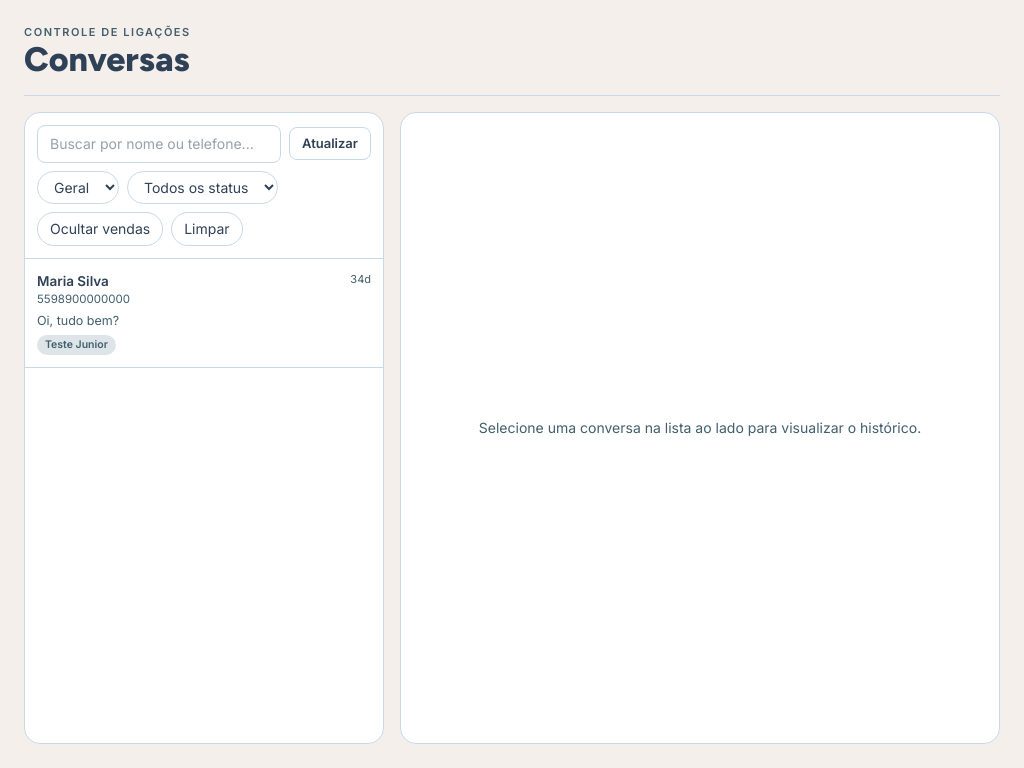
it: ConversasPage — painel de chat › envio de mensagem com sucesso aparece no chat e limpa o campo
Click the text "Maria Silva".
click(73, 280)  # box top-left (37, 272), bottom-right (109, 288)
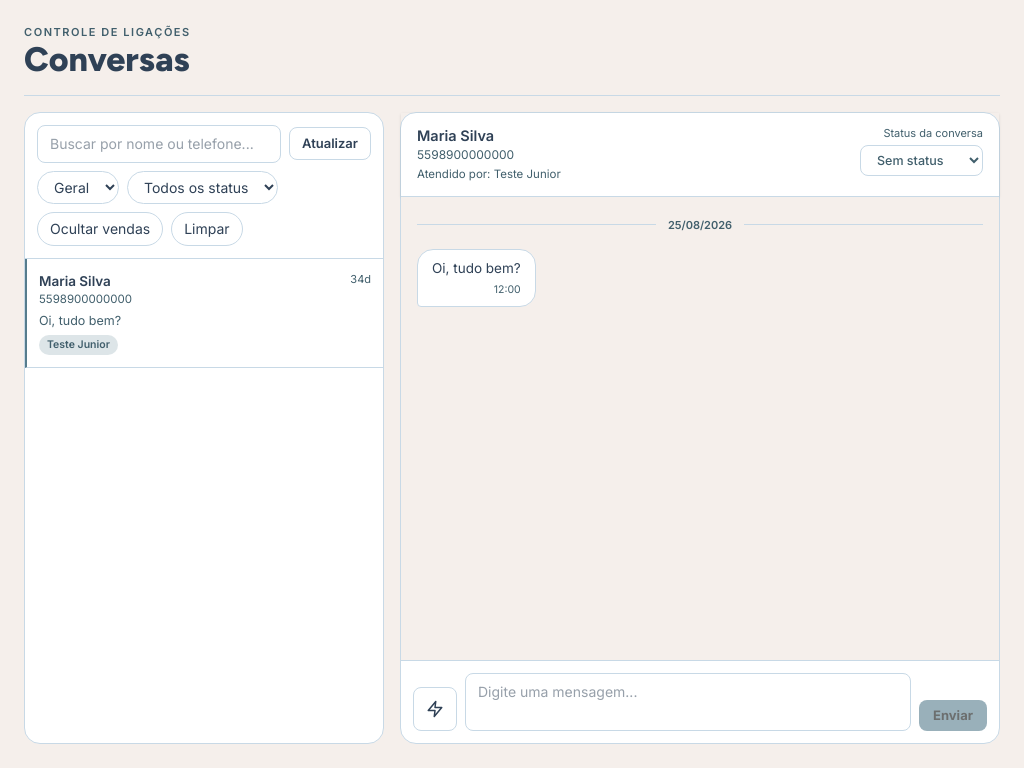
Expected: the 2nd text "Oi, tudo bem?" is shown, top-left (39, 313), bottom-right (121, 328)
Type "Oi Maria, tudo ótimo!" into the text box named "Mensagem para o contato".
click(688, 702); type("Oi Maria, tudo ótimo!")  # box top-left (465, 673), bottom-right (911, 731)
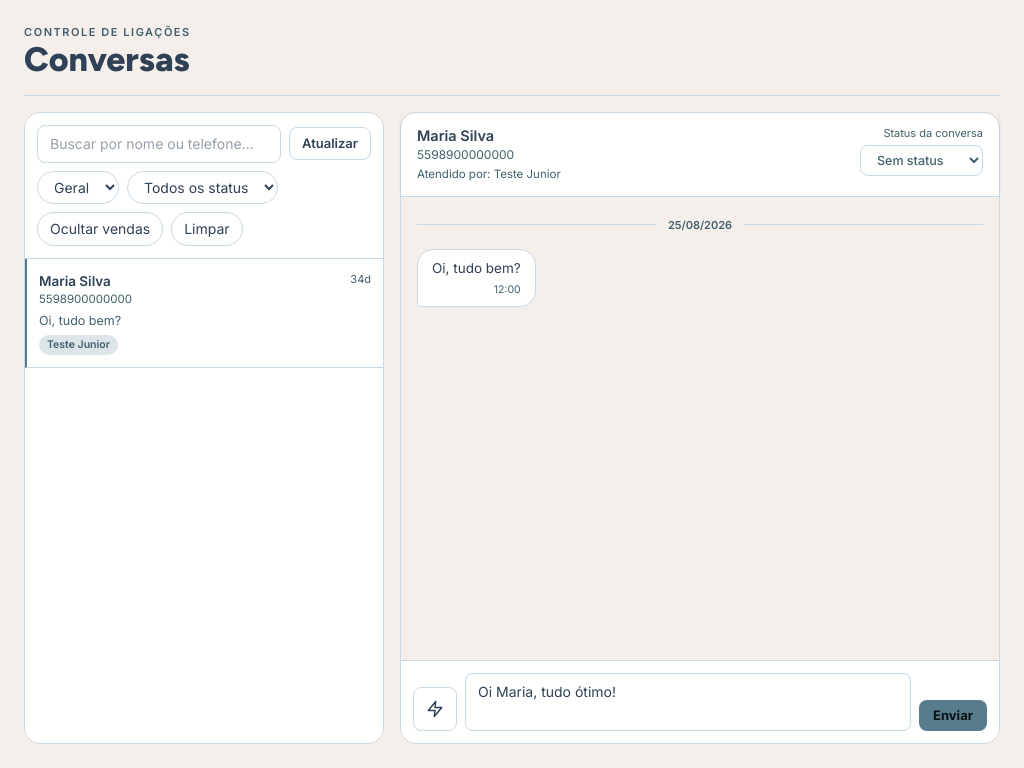
Click the button "Enviar".
click(953, 715)  # box top-left (919, 700), bottom-right (987, 731)
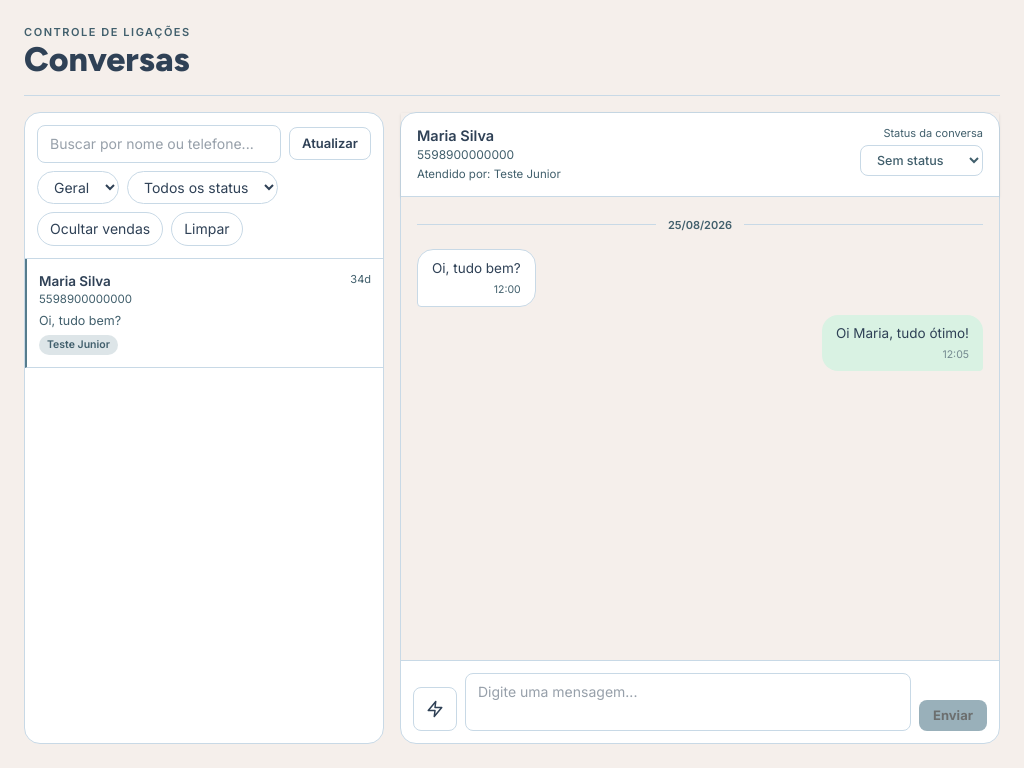
Expected: the text "Oi Maria, tudo ótimo!" is shown, top-left (836, 323), bottom-right (969, 343)
Expected: the text box named "Mensagem para o contato" is empty, top-left (465, 673), bottom-right (911, 731)
